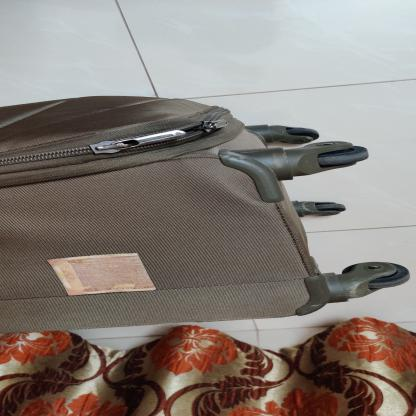New10Back: (46, 252, 157, 296)
